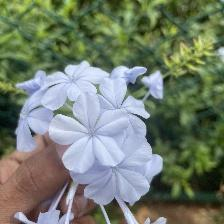chitrak: (50, 87, 136, 171), (73, 135, 153, 204), (41, 58, 109, 112), (17, 86, 51, 155)
